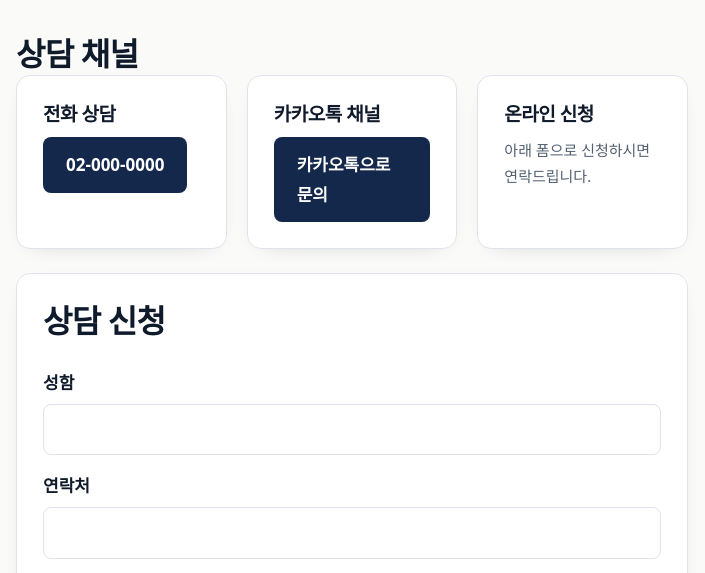
Test: 상담 폼 제출 (개업 후 상태 모킹) › 진단 분야와 상담 분야가 같으면 함께 보내기를 보여 주고, 보낼 답변을 펼쳐 볼 수 있다
The image size is (705, 573).
In the field labelled "성함": (352, 430) top-left (43, 404), bottom-right (661, 455), type "홍길동"
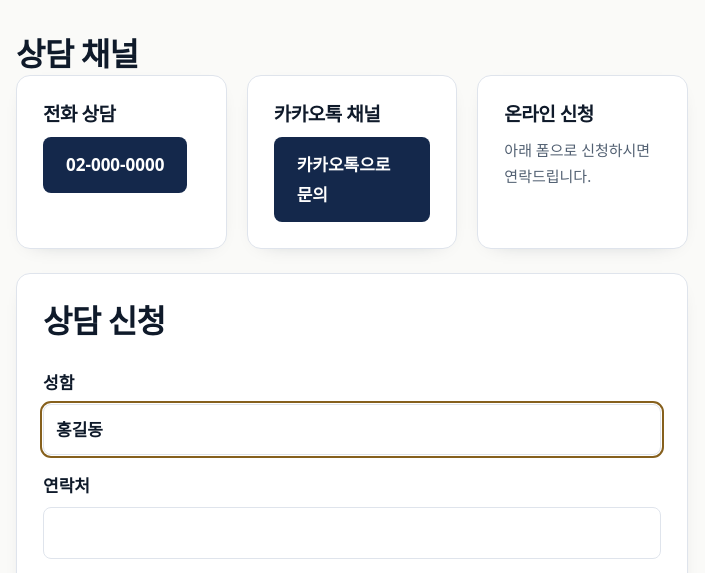
In the field labelled "연락처": (352, 533) top-left (43, 507), bottom-right (661, 559), type "01012345678"
(page scrolled)
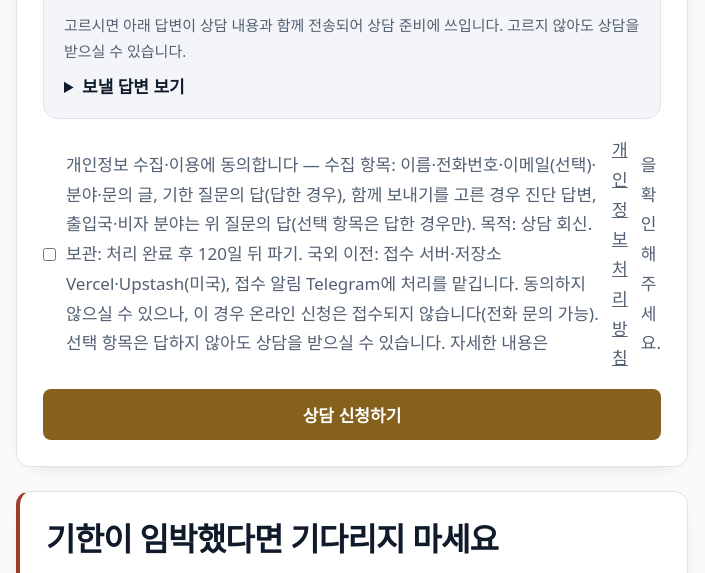
Click the checkbox labelled "개인정보 수집·이용에 동의": (50, 254) top-left (43, 248), bottom-right (56, 261)
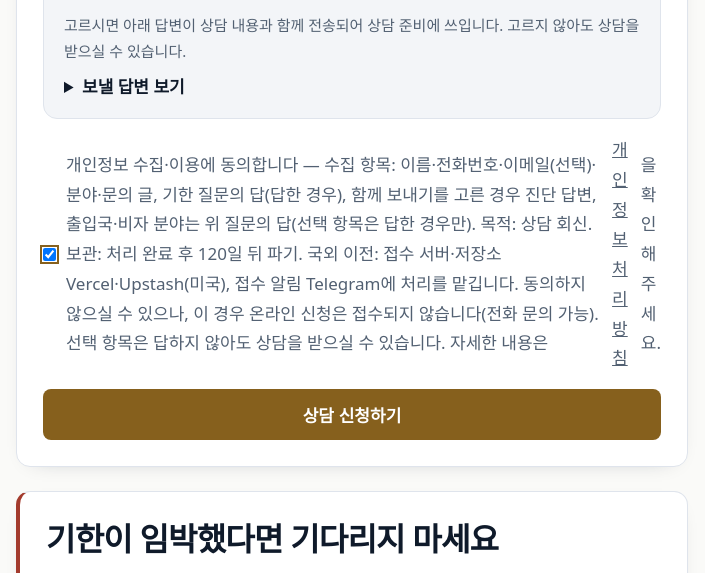
Click the button "상담 신청하기": (352, 415) top-left (43, 389), bottom-right (661, 440)
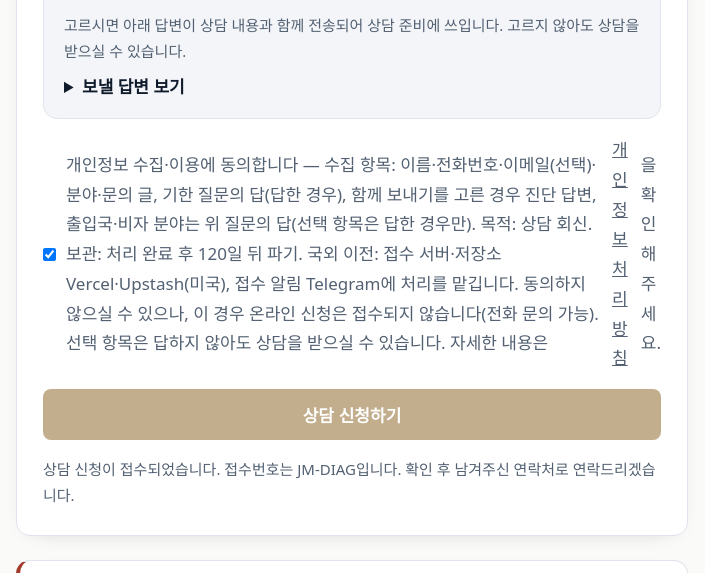
Now the text "JM-DIAG" is shown, box top-left (220, 459), bottom-right (401, 479)
